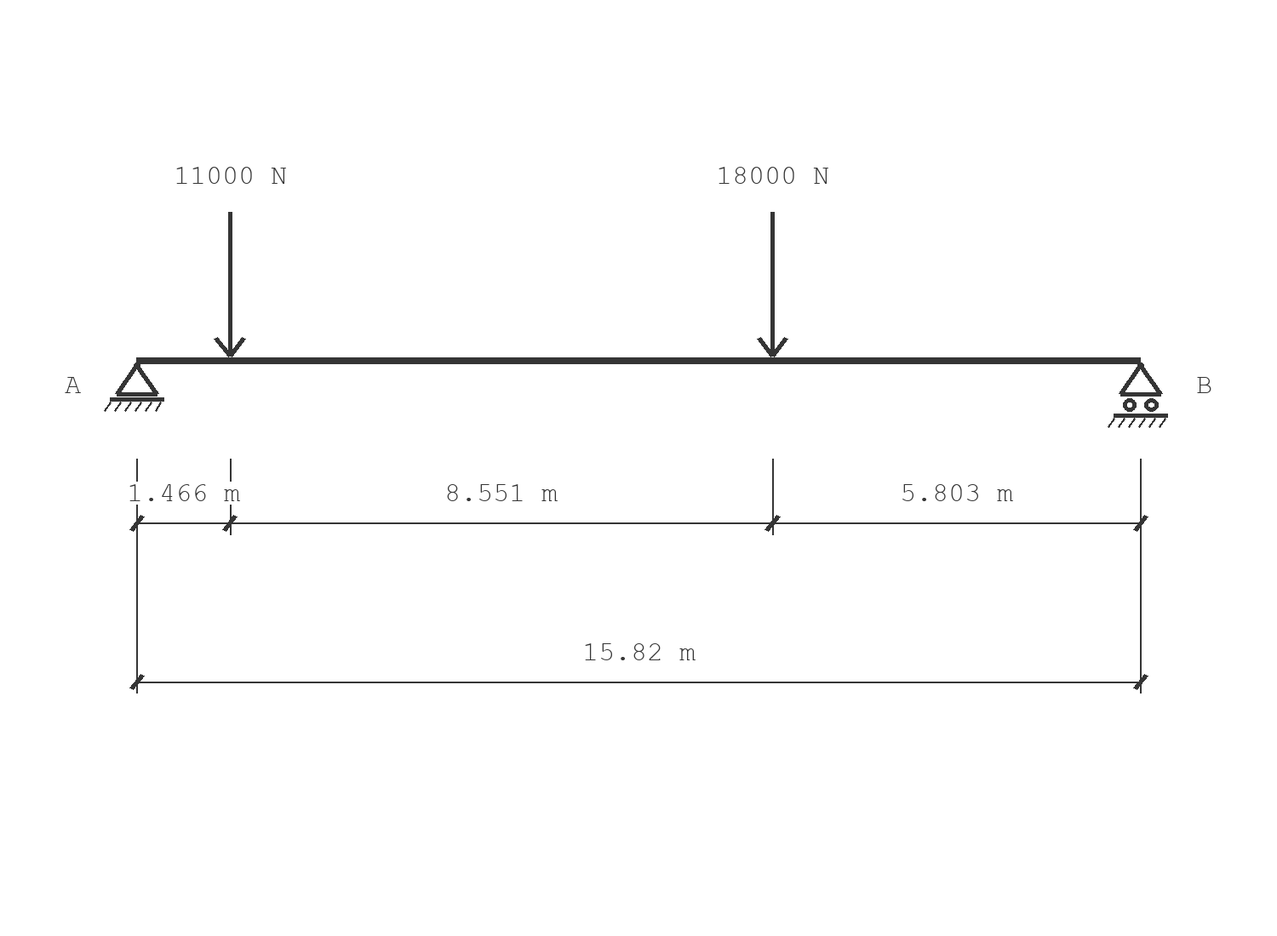pin_support: (104, 362, 164, 412)
point_load: (214, 212, 246, 357), (757, 212, 788, 357)
roller_support: (1108, 362, 1168, 428)
